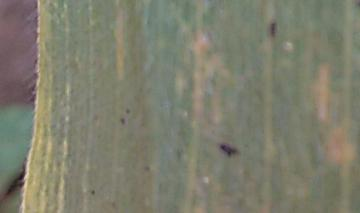tarspot: (215, 140, 239, 159), (268, 18, 279, 39), (118, 116, 127, 127), (124, 105, 133, 116), (142, 163, 152, 172), (89, 186, 97, 196)
